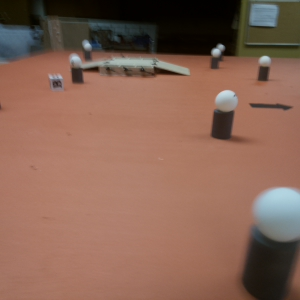obstacle: (239, 185, 300, 299), (210, 89, 239, 139), (256, 54, 273, 82), (68, 55, 84, 83), (208, 47, 220, 69), (82, 44, 94, 59)
side: (98, 64, 155, 79)
slope: (155, 57, 191, 78)
